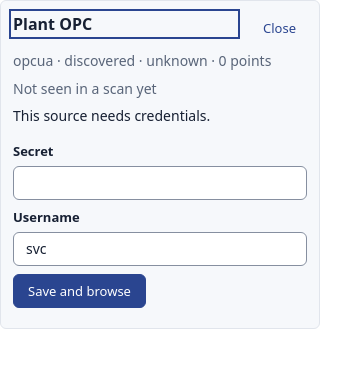
SourcePanel › shows a failed save instead of browsing
This screenshot has width=337, height=374.
Step 1. Type "pw" into the password field labelled "Secret" → (160, 183), box [13,166,307,200]
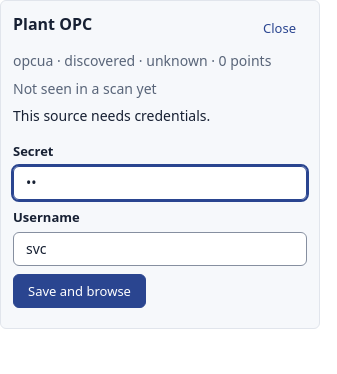
Step 2. Click the button "Save and browse" → (79, 291), box [13,274,146,308]
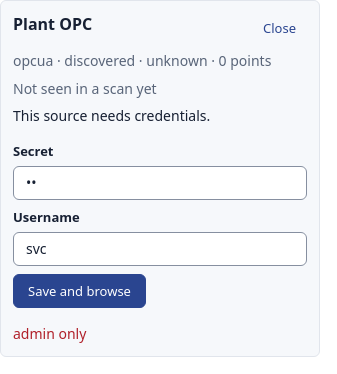
Expected: the message reads "admin only", [13,324,86,343]
